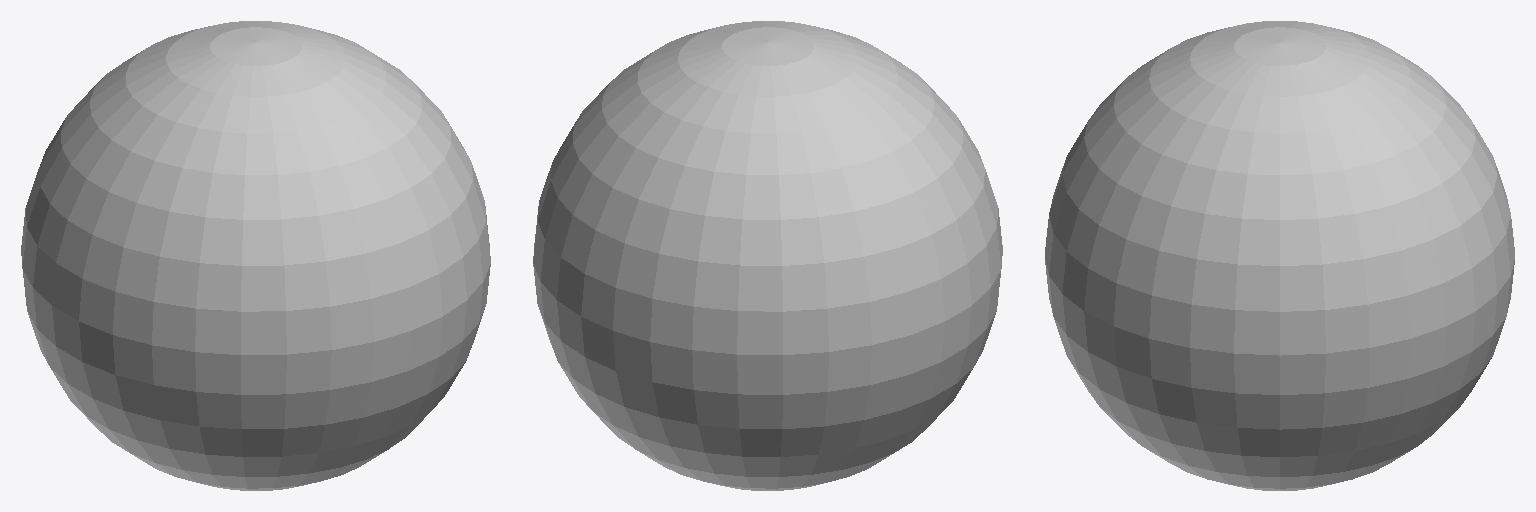
The model's file is lamp.obj.
3 renders of one model, left to right at view 1: azimuth 30°, elevation 25°; view 2: azimuth 150°, elevation 25°; view 3: azimuth 270°, elevation 25°, orthographic.
Visible parts, largest first — view 1: lamp_Sphere.001; view 2: lamp_Sphere.001; view 3: lamp_Sphere.001.
Part boxes in pixels (x1,y1,x2,y2): lamp_Sphere.001: (21,21,490,490); lamp_Sphere.001: (533,21,1002,490); lamp_Sphere.001: (1045,21,1514,490).
Size of the model in its own units: 2 by 2 by 2.